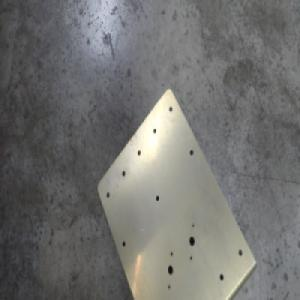MetalSheet: (94, 84, 259, 300)
